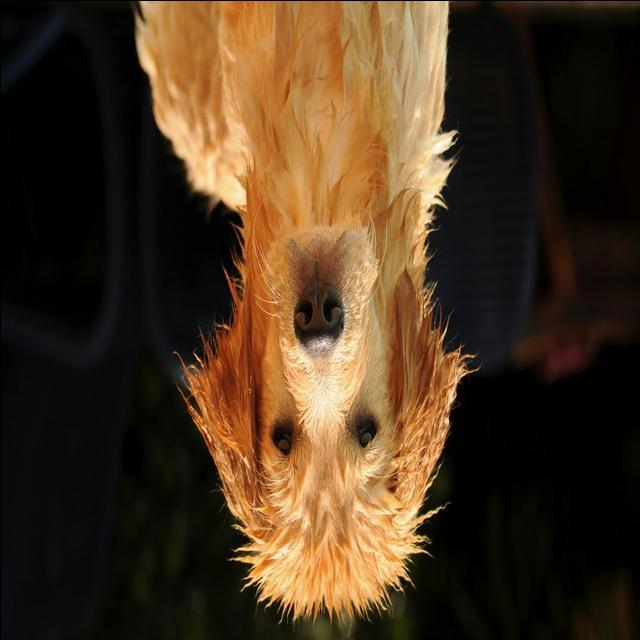retriever: (130, 1, 480, 628)
